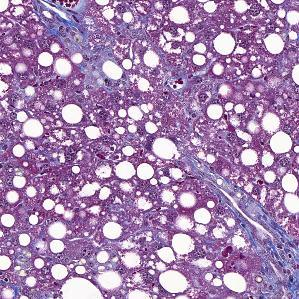fibrosis: (194, 168, 277, 233), (42, 5, 116, 52)
